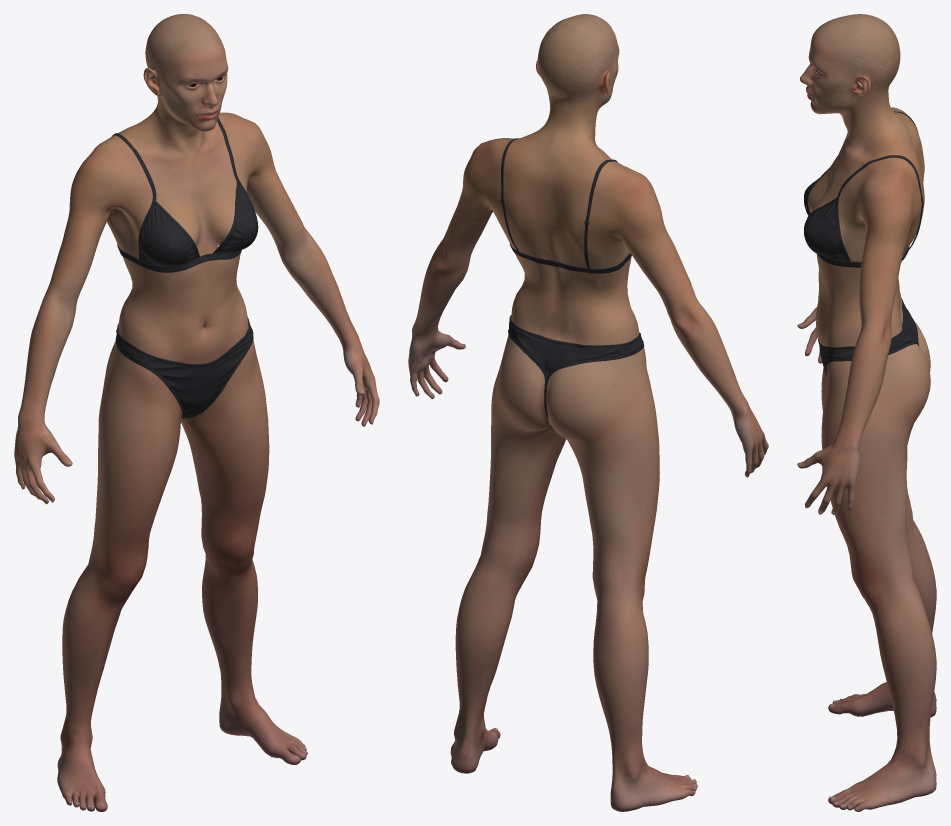
File: skin-morph-lite.glb
3 views of the same model, side by side, from view 1: azimuth 30°, elevation 25°; view 2: azimuth 150°, elevation 25°; view 3: azimuth 270°, elevation 25° (orthographic). The views are drawn at different scales.
Visible parts, largest first — view 1: Body_m, Female_Clothes_m; view 2: Body_m, Female_Clothes_m; view 3: Body_m, Female_Clothes_m.
Part boxes in pixels (x1,y1,x2,y2): Body_m: [14, 14, 379, 811]; Female_Clothes_m: [111, 117, 258, 418]; Body_m: [408, 14, 768, 811]; Female_Clothes_m: [500, 138, 644, 418]; Body_m: [797, 14, 936, 811]; Female_Clothes_m: [804, 111, 923, 376].
Bounding box in the file's own units: 0.8143 × 1.69 × 0.2876.
Materials: 4 (3 with a texture image).
